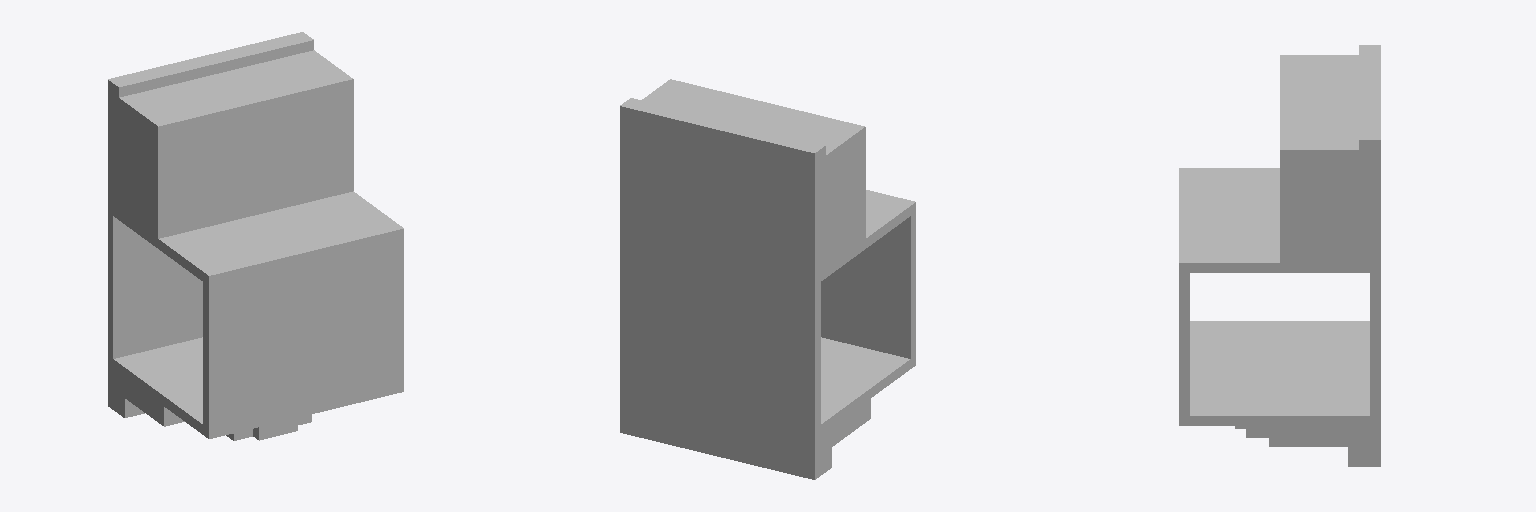
The model's file is suv_body.obj.
3 views of the same model, side by side, from view 1: azimuth 30°, elevation 25°; view 2: azimuth 150°, elevation 25°; view 3: azimuth 270°, elevation 25° (orthographic).
Visible parts, largest first — view 1: Import.001; view 2: Import.001; view 3: Import.001.
Part boxes in pixels (bbox=[...]): Import.001: bbox=[108, 32, 403, 440]; Import.001: bbox=[620, 79, 915, 479]; Import.001: bbox=[1179, 45, 1380, 466].
Size of the model in its own units: 1.25 by 2 by 1.12.